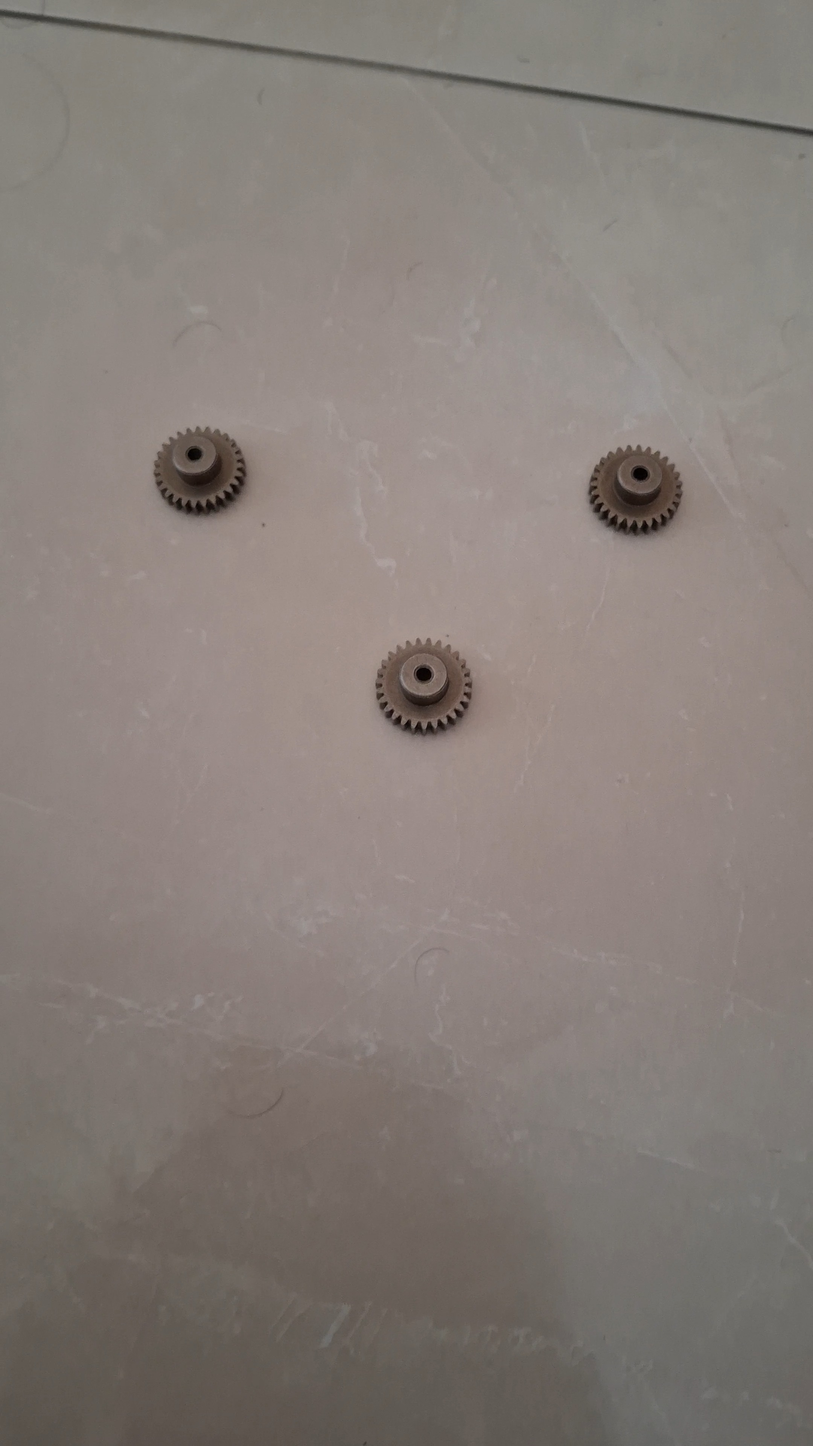spur gear: (376, 640, 472, 733), (589, 447, 682, 532), (154, 428, 246, 512)
